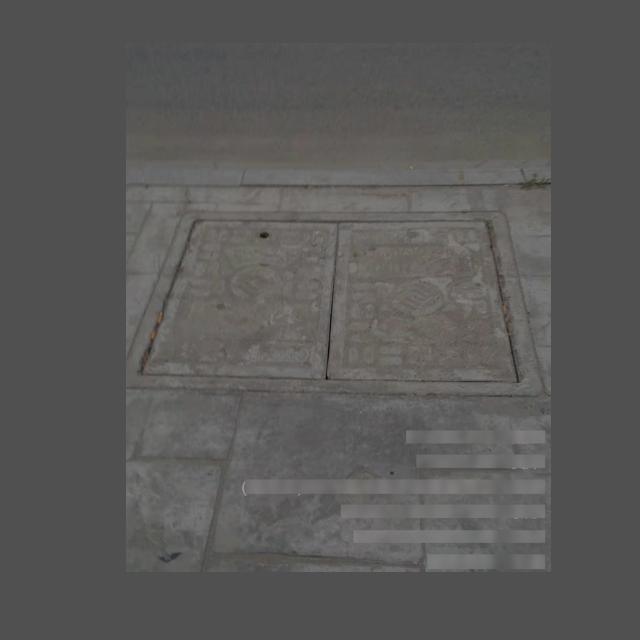good: (141, 209, 510, 375)
